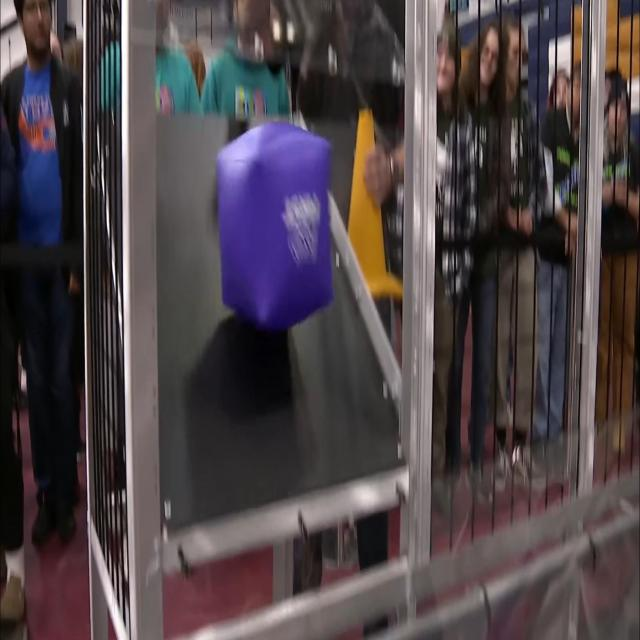frc_cone: (330, 117, 398, 300)
frc_cube: (218, 116, 336, 334)
